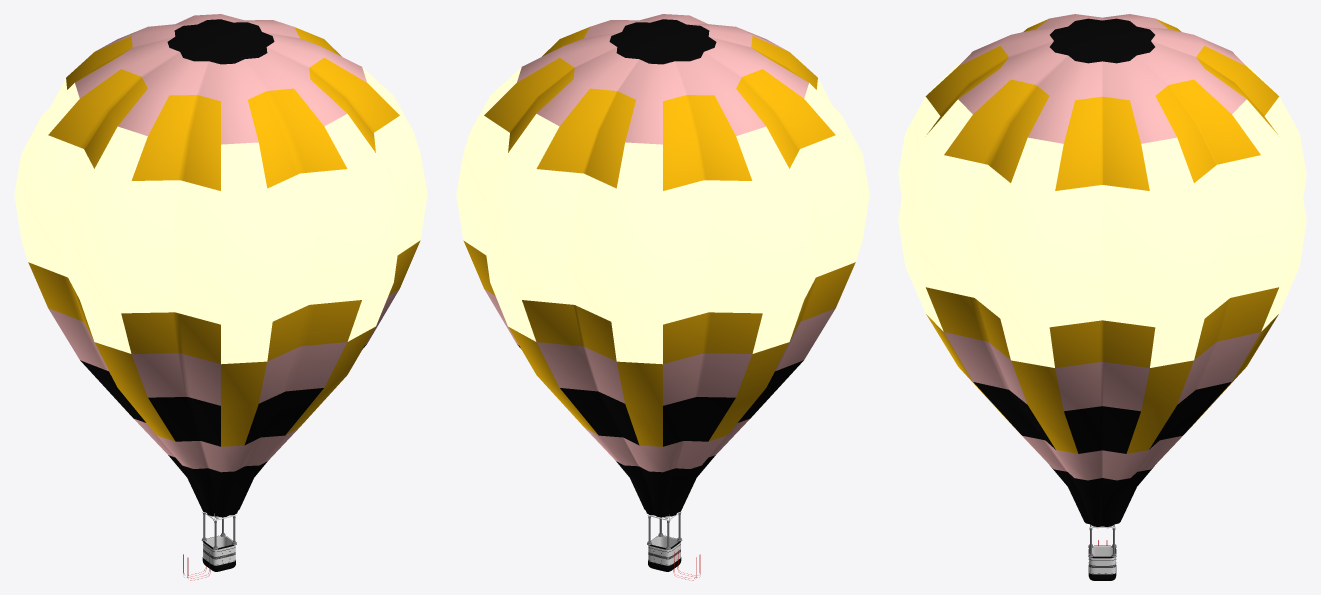
3 renders of one model, left to right at view 1: azimuth 30°, elevation 25°; view 2: azimuth 150°, elevation 25°; view 3: azimuth 270°, elevation 25°, orthographic. The views are drawn at different scales.
Visible parts, largest first — view 1: Sphere_Sphere.002, Circle; view 2: Sphere_Sphere.002, Circle; view 3: Sphere_Sphere.002, Circle.
Part boxes in pixels (x1,y1,x2,y2): Sphere_Sphere.002: (14,14,427,517); Circle: (201,511,236,571); Sphere_Sphere.002: (456,14,869,517); Circle: (647,511,682,571); Sphere_Sphere.002: (898,14,1306,526); Circle: (1088,524,1116,580).
Bounding box in the file's own units: 22.42 × 33.16 × 22.42.
